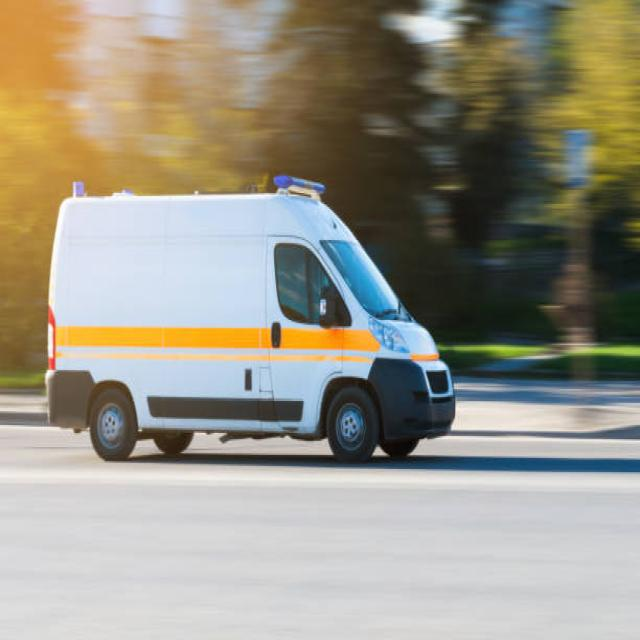emergency: (45, 176, 456, 461)
